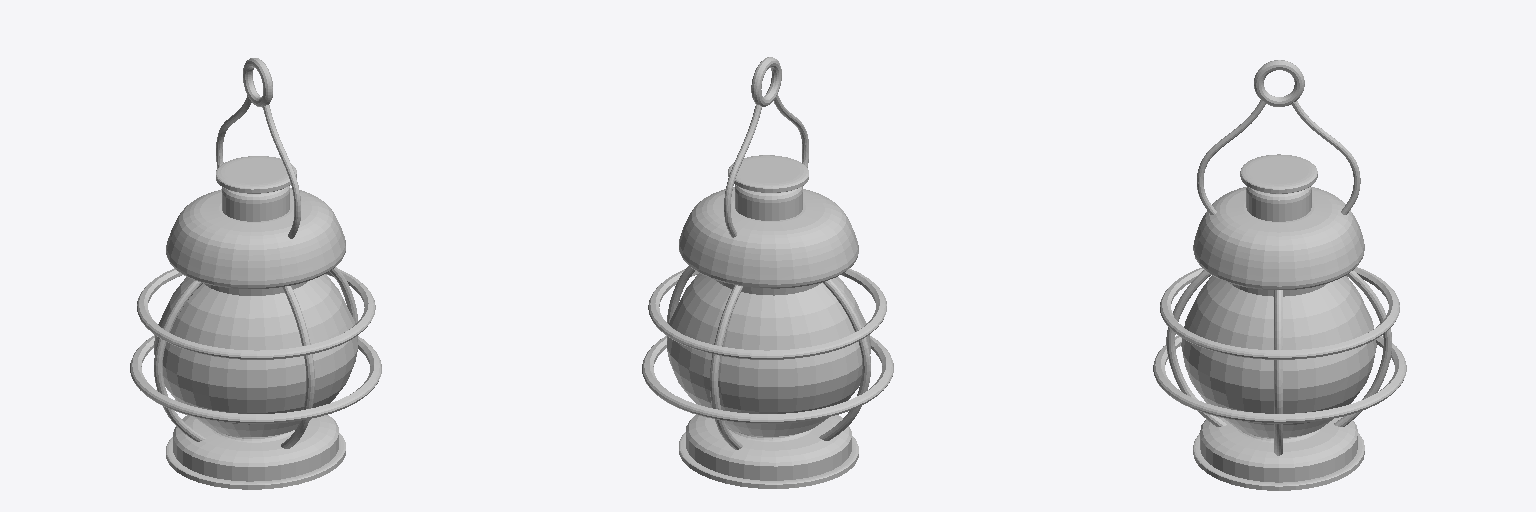
The model's file is Lantern.obj.
The picture shows the model from 3 angles: view 1: azimuth 30°, elevation 25°; view 2: azimuth 150°, elevation 25°; view 3: azimuth 270°, elevation 25°; orthographic projection.
Visible parts, largest first — view 1: Lantern; view 2: Lantern; view 3: Lantern.
Part boxes in pixels (x1,y1,x2,y2): Lantern: (130, 58, 381, 489); Lantern: (642, 57, 893, 488); Lantern: (1153, 60, 1406, 490).
Bounding box in the file's own units: 0.2729 × 0.4696 × 0.2752.